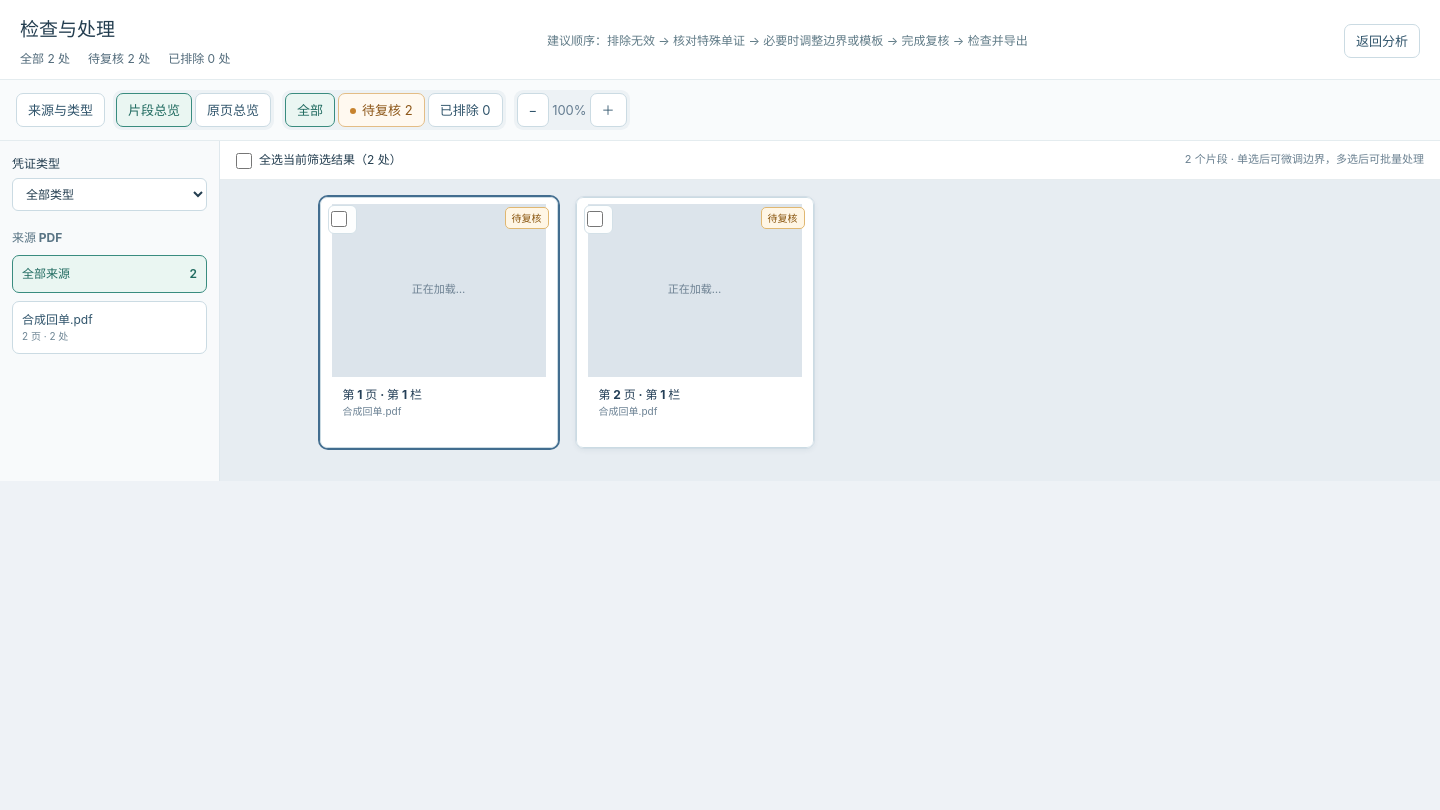
ReceiptOverview › closes a type draft when the active filter changes instead of reusing its selection
Click the checkbox labelled "全选当前筛选结果（2 处）": coordinates (244, 161) [236, 153, 252, 169]
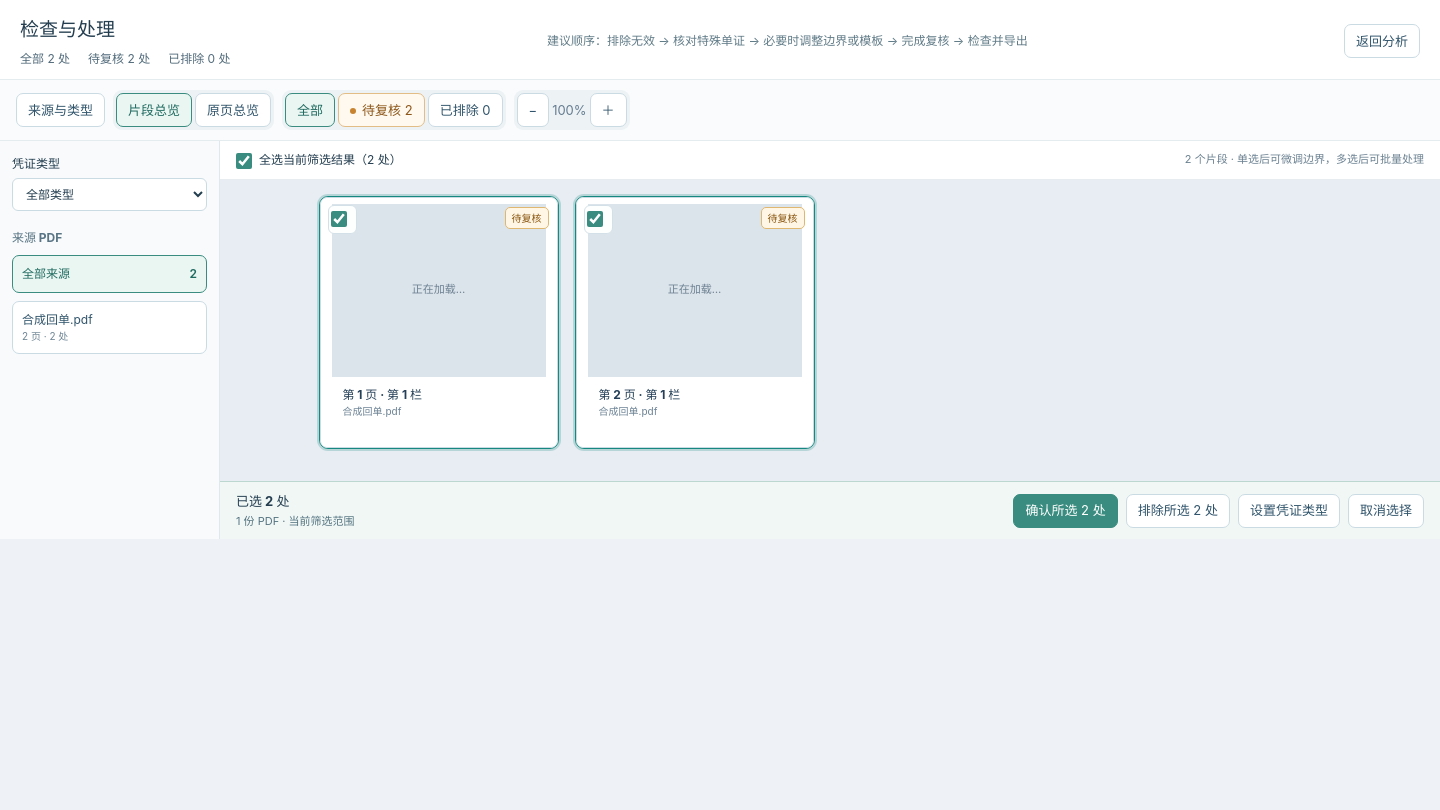
Click the button "设置凭证类型": coordinates (1289, 510) [1238, 494, 1340, 528]
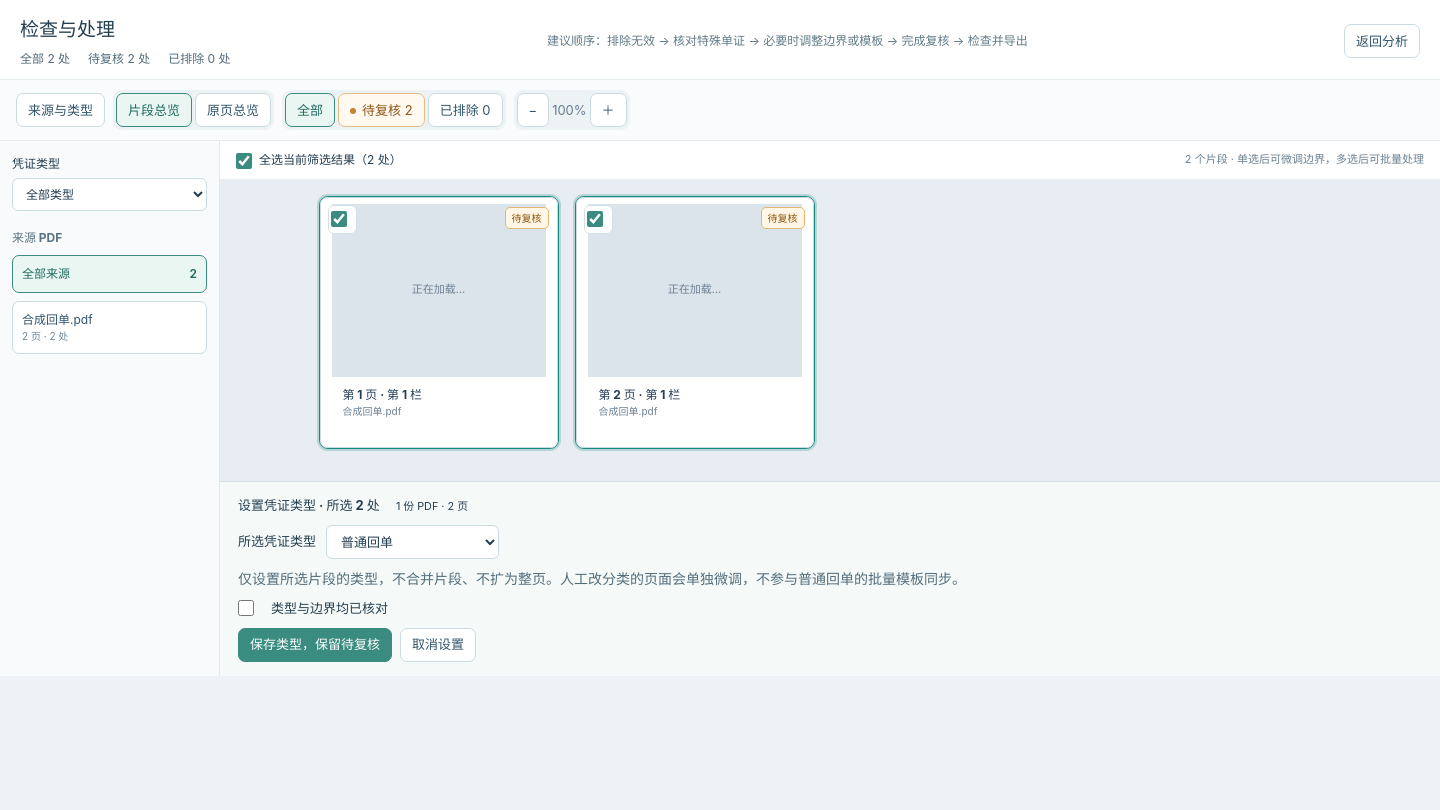
Select "全部特殊单证" in the dropdown labelled "凭证类型": coordinates (110, 195) [12, 178, 207, 211]
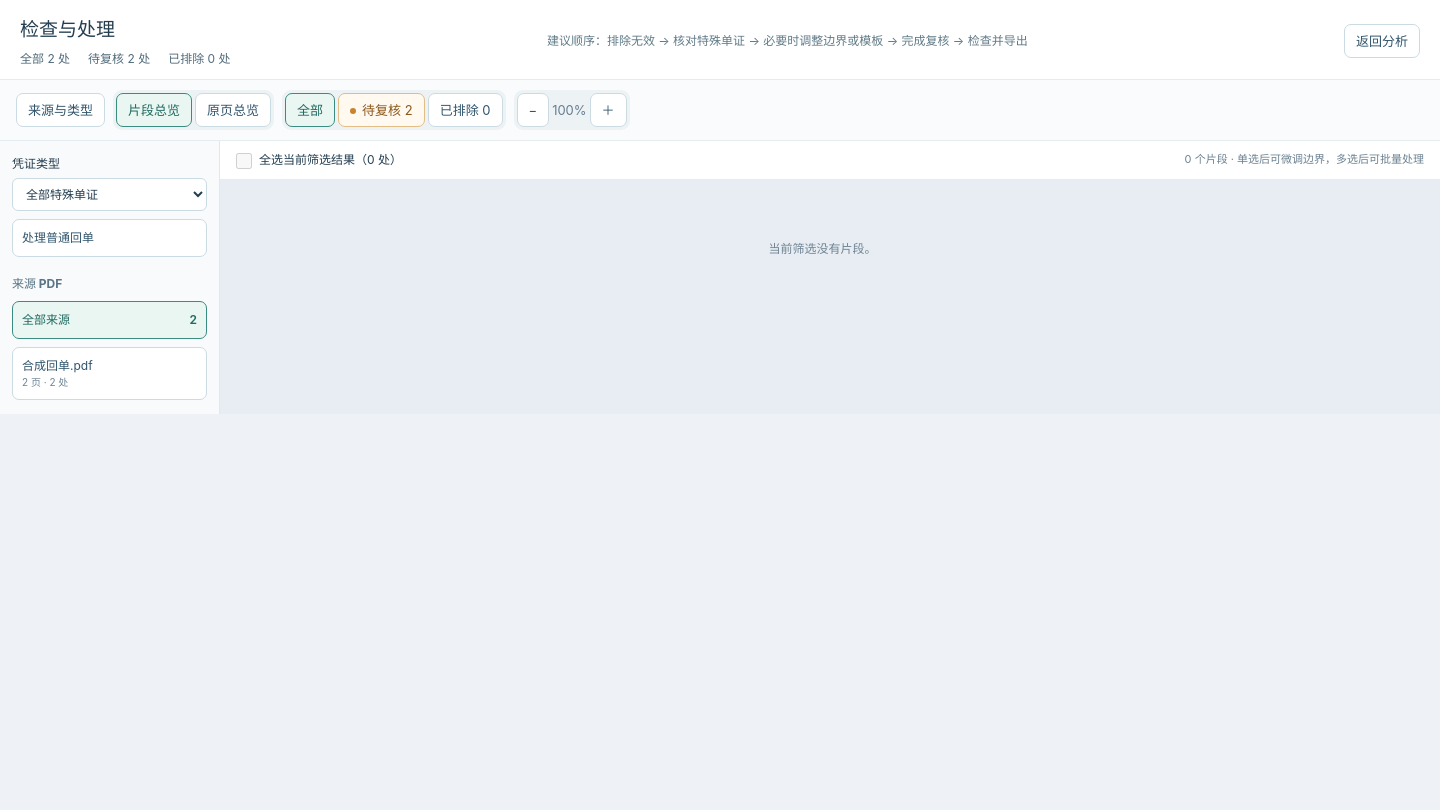
Expected: the element "设置所选凭证类型" is gone
